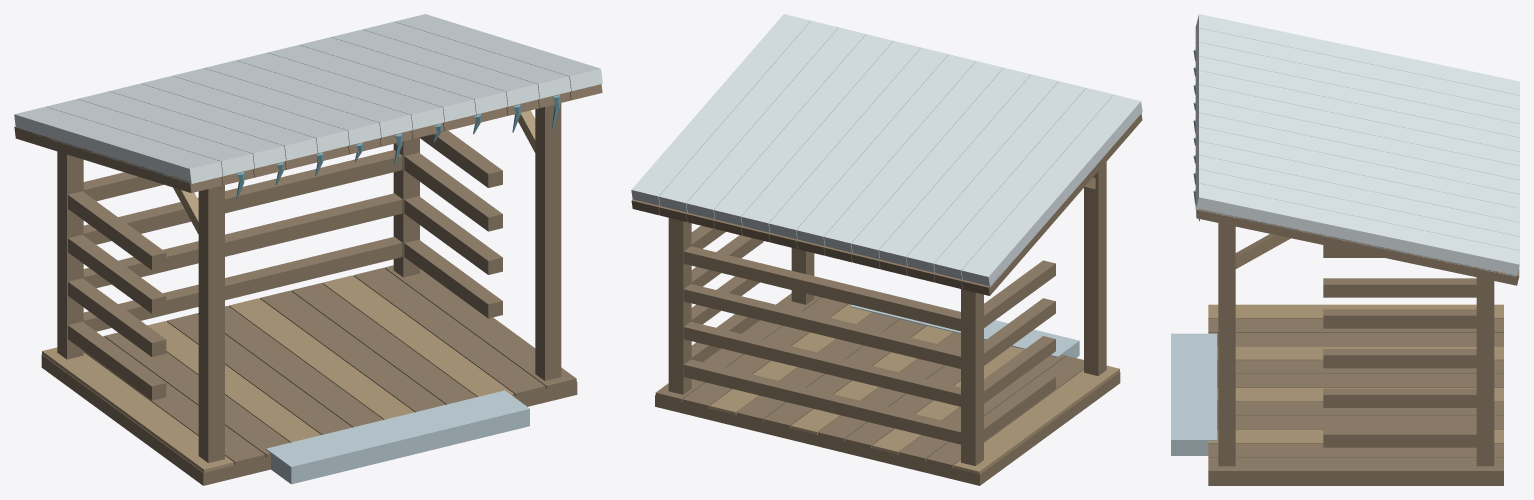
File: PROP_12_WoodShelterSnowy.glb
3 renders of one model, left to right at view 1: azimuth 30°, elevation 25°; view 2: azimuth 150°, elevation 25°; view 3: azimuth 270°, elevation 25°, orthographic. The views are drawn at different scales.
Visible parts, largest first — view 1: PROP_12_WoodShelterSnowy; view 2: PROP_12_WoodShelterSnowy; view 3: PROP_12_WoodShelterSnowy.
Boxes of the visible parts, x1,y1,x2,y2 form: PROP_12_WoodShelterSnowy: [14, 14, 602, 485]; PROP_12_WoodShelterSnowy: [631, 14, 1142, 485]; PROP_12_WoodShelterSnowy: [1171, 14, 1519, 485].
Bounding box in the file's own units: 3.96 × 2.99 × 3.18.
